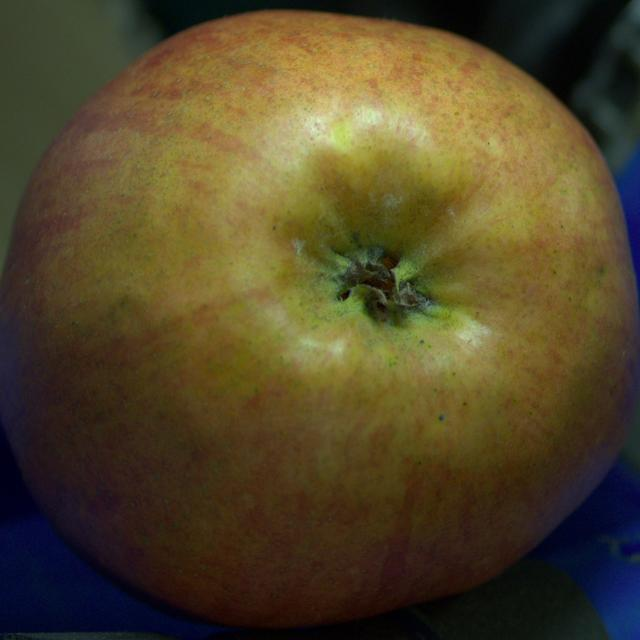apple: (0, 11, 639, 626)
